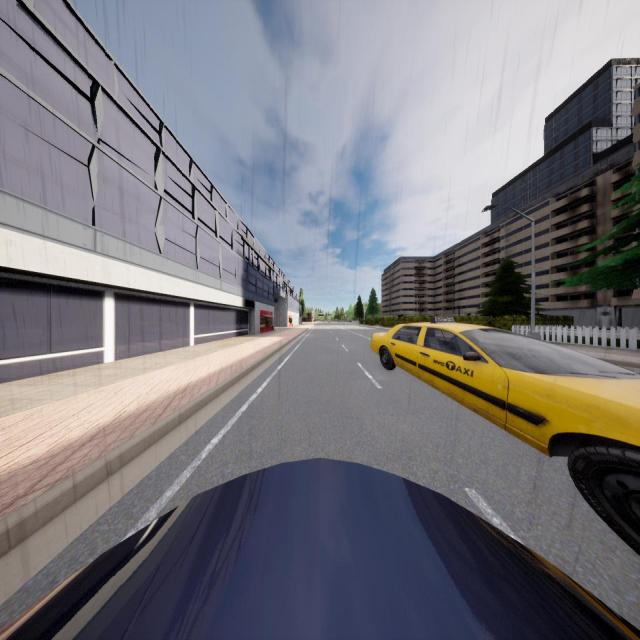Vehicle: (0, 456, 640, 640), (370, 322, 640, 554), (348, 319, 352, 323)
